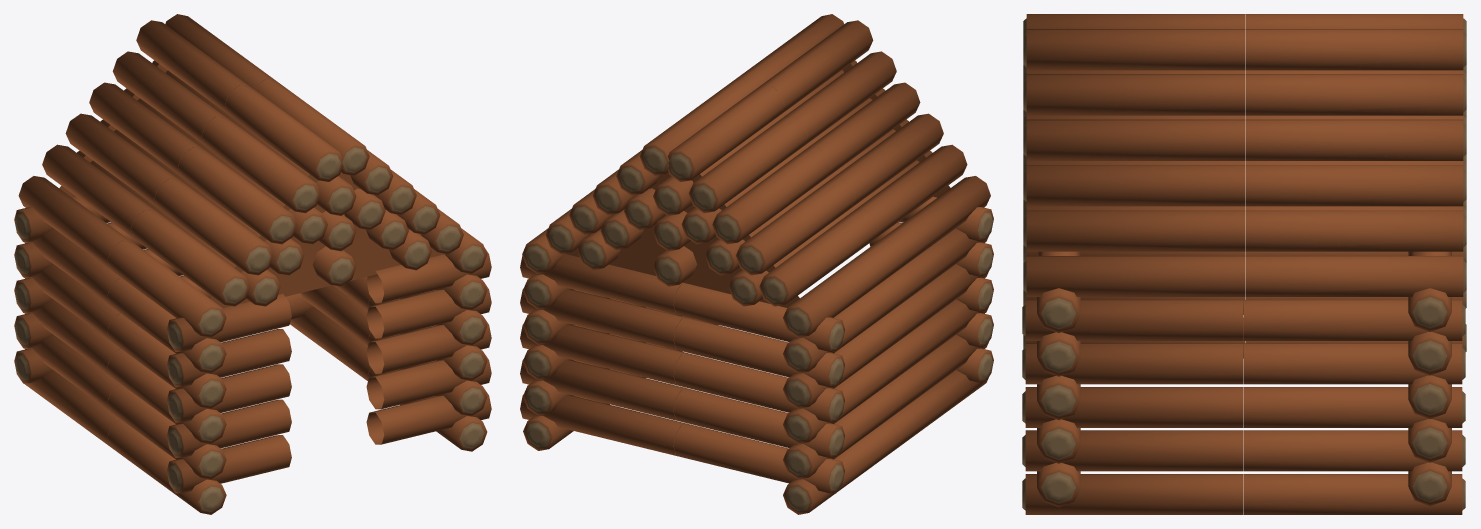
File: Cabin.fbx
3 views of the same model, side by side, from view 1: azimuth 30°, elevation 25°; view 2: azimuth 150°, elevation 25°; view 3: azimuth 270°, elevation 25° (orthographic). The views are drawn at different scales.
Visible parts, largest first — view 1: Cylinder.035, Cylinder.032, Cylinder.033, Cylinder.031, Cylinder.036, Cylinder.034, Cylinder.038, Cylinder.037, Plane.053, Cylinder.039; view 2: Cylinder.035, Cylinder.034, Cylinder.033, Cylinder.036, Cylinder.031, Cylinder.038, Cylinder.032, Cylinder.037, Cylinder.039, Plane.054; view 3: Cylinder.036, Cylinder.031, Cylinder.032, Cylinder.034, Cylinder.039, Cylinder.035, Cylinder.033, Cylinder.037.
Boxes of the visible parts, <box> form: Cylinder.035: <box>18,20,343,337</box>; Cylinder.032: <box>166,248,491,493</box>; Cylinder.033: <box>24,229,226,514</box>; Cylinder.031: <box>290,274,487,451</box>; Cylinder.036: <box>165,14,487,273</box>; Cylinder.034: <box>14,197,313,383</box>; Cylinder.038: <box>77,88,327,306</box>; Cylinder.037: <box>152,60,356,286</box>; Plane.053: <box>210,172,444,308</box>; Cylinder.039: <box>344,188,431,270</box>; Cylinder.035: <box>668,20,990,337</box>; Cylinder.034: <box>520,254,844,493</box>; Cylinder.033: <box>783,228,988,514</box>; Cylinder.036: <box>522,14,843,273</box>; Cylinder.031: <box>523,274,718,450</box>; Cylinder.038: <box>681,88,932,306</box>; Cylinder.032: <box>869,196,993,382</box>; Cylinder.037: <box>653,60,856,286</box>; Cylinder.039: <box>577,188,665,270</box>; Plane.054: <box>565,172,799,307</box>; Cylinder.036: <box>1023,29,1466,296</box>; Cylinder.031: <box>1022,300,1465,514</box>; Cylinder.032: <box>1037,251,1080,507</box>; Cylinder.034: <box>1408,251,1451,506</box>; Cylinder.039: <box>1023,115,1466,217</box>; Cylinder.035: <box>1023,14,1466,73</box>; Cylinder.033: <box>1023,154,1466,358</box>; Cylinder.037: <box>1023,70,1466,162</box>.
Size of the model in its own units: 605 by 620 by 603.
